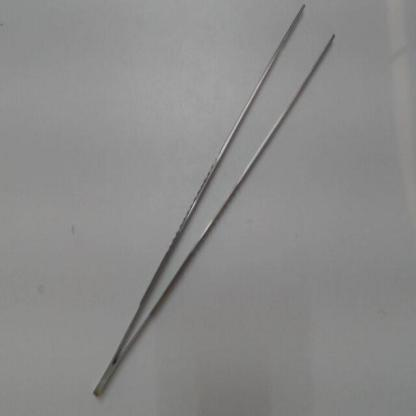DeBakey Dissector: (83, 0, 357, 409)
